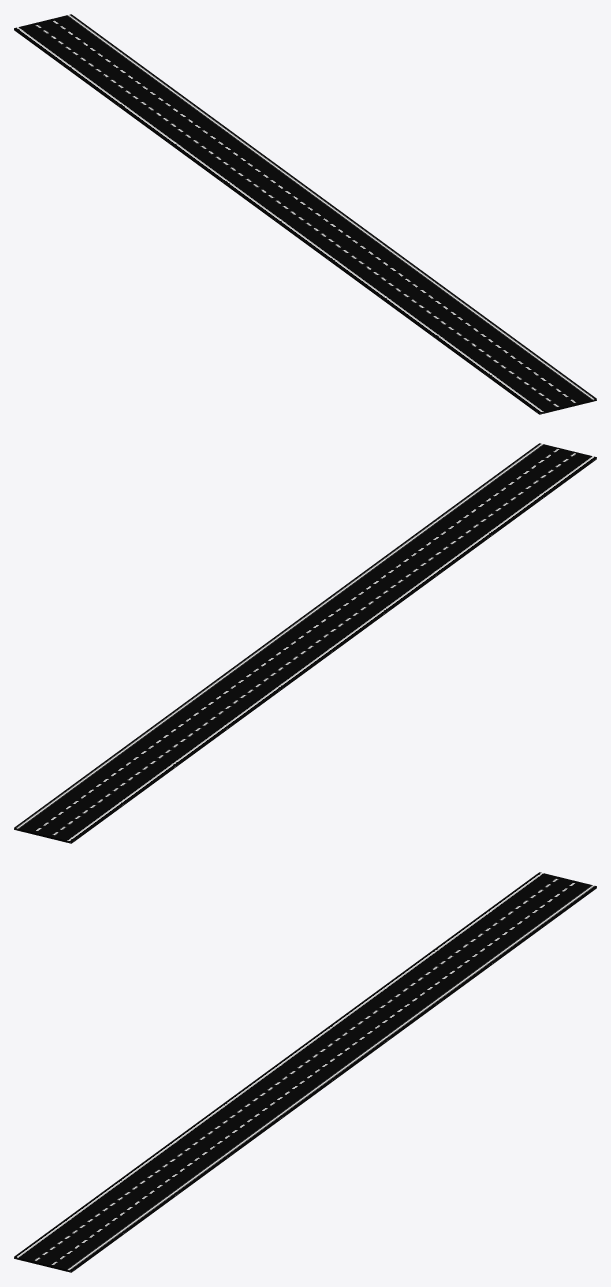
The model's file is Road.obj.
The picture shows the model from 3 angles, top to bottom: view 1: azimuth 30°, elevation 25°; view 2: azimuth 150°, elevation 25°; view 3: azimuth 330°, elevation 25°; orthographic projection.
Parts seen in each view (by area): view 1: Cube; view 2: Cube; view 3: Cube.
Part boxes in pixels (x1,y1,x2,y2): Cube: (14,14,596,414); Cube: (14,443,596,843); Cube: (14,872,596,1272).
Bounding box in the file's own units: 14.6 × 0.48 × 231.
Materials: 1 (1 with a texture image).
